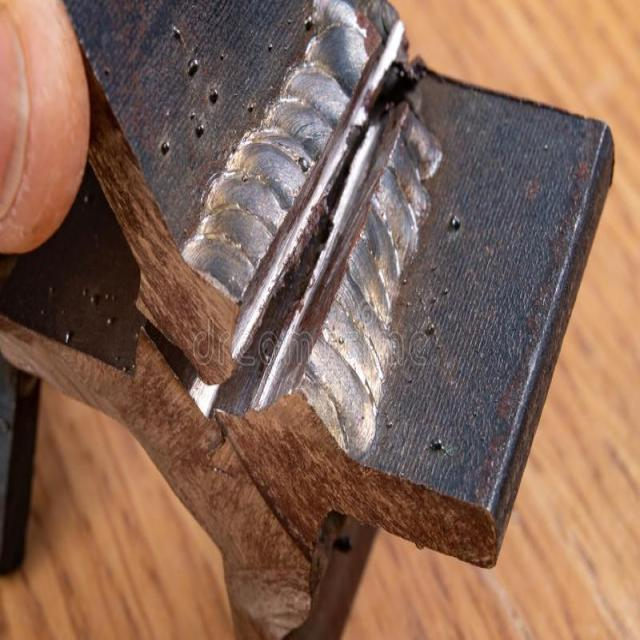Crack: (143, 2, 441, 543)
